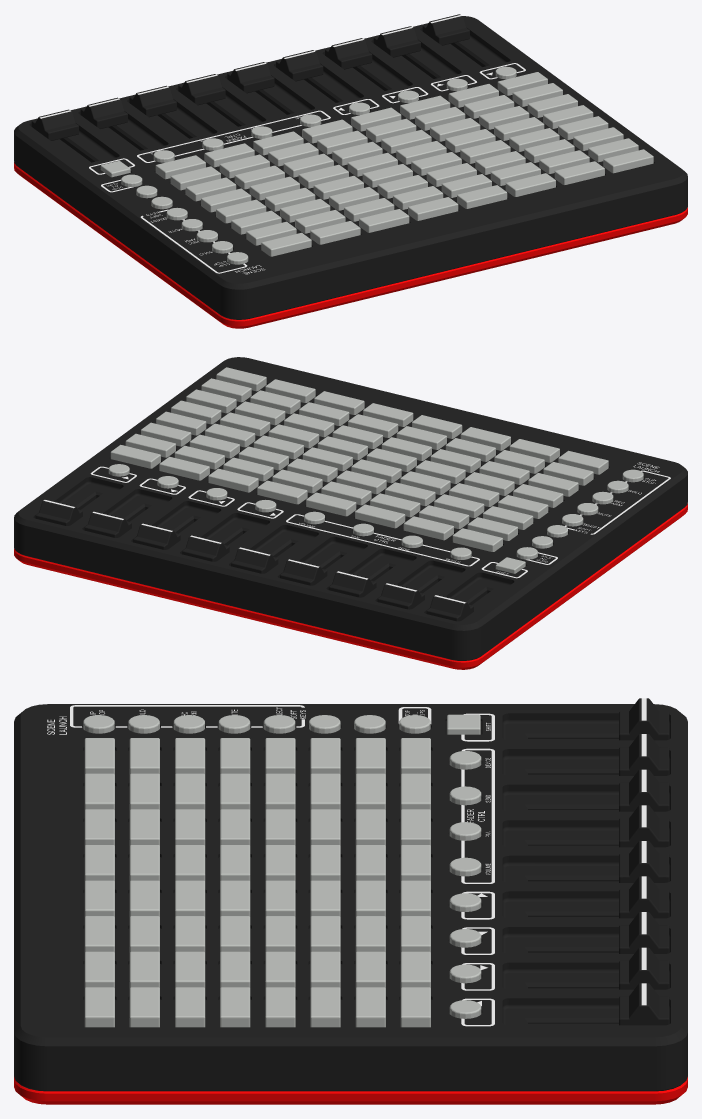
The model's file is Akai Model.FBX.
3 views of the same model, one above another, from view 1: azimuth 30°, elevation 25°; view 2: azimuth 150°, elevation 25°; view 3: azimuth 270°, elevation 25° (orthographic). The views are drawn at different scales.
Parts seen in each view (by area): view 1: Body, Slider016, Slider017, Slider011, Slider012, Slider014, Slider015, Slider010, Slider018, Slider013, Square Button079, Square Button085 (+62 smaller); view 2: Body, Slider012, Slider013, Slider010, Slider011, Slider017, Slider014, Slider016, Slider015, Slider018, Square Button069, Square Button068 (+62 smaller); view 3: Body, Slider018, Slider012, Slider017, Slider013, Slider010, Slider015, Slider014, Slider011, Slider016, Square Button065, Square Button074 (+63 smaller).
Boxes of the visible parts, left/top/right/bottom form: Body: left=14, top=16, right=687, bottom=328; Slider016: left=325, top=38, right=372, bottom=69; Slider017: left=373, top=26, right=420, bottom=57; Slider011: left=80, top=97, right=127, bottom=128; Slider012: left=129, top=85, right=176, bottom=117; Slider014: left=227, top=62, right=274, bottom=93; Slider015: left=276, top=50, right=323, bottom=81; Slider010: left=31, top=109, right=78, bottom=140; Slider018: left=422, top=14, right=469, bottom=45; Slider013: left=178, top=74, right=225, bottom=105; Square Button079: left=603, top=149, right=653, bottom=173; Square Button085: left=310, top=221, right=360, bottom=244; Body: left=14, top=357, right=687, bottom=669; Slider012: left=328, top=570, right=376, bottom=597; Slider013: left=280, top=558, right=327, bottom=585; Slider010: left=426, top=594, right=473, bottom=621; Slider011: left=377, top=582, right=424, bottom=609; Slider017: left=84, top=511, right=131, bottom=537; Slider014: left=231, top=546, right=278, bottom=573; Slider016: left=133, top=523, right=180, bottom=549; Slider015: left=182, top=535, right=229, bottom=561; Slider018: left=35, top=499, right=82, bottom=525; Square Button069: left=306, top=492, right=356, bottom=516; Square Button068: left=257, top=480, right=307, bottom=504; Body: left=14, top=704, right=687, bottom=1104; Slider018: left=619, top=983, right=669, bottom=1025; Slider012: left=619, top=769, right=669, bottom=811; Slider017: left=619, top=947, right=669, bottom=989; Slider013: left=619, top=805, right=669, bottom=847; Slider010: left=619, top=698, right=669, bottom=740; Slider015: left=619, top=876, right=669, bottom=918; Slider014: left=619, top=840, right=669, bottom=882; Slider011: left=619, top=734, right=669, bottom=775; Slider016: left=619, top=912, right=669, bottom=953; Square Button065: left=400, top=987, right=430, bottom=1027; Square Button074: left=310, top=987, right=340, bottom=1027.
Size of the model in its own units: 9.37 by 1.09 by 7.87.
